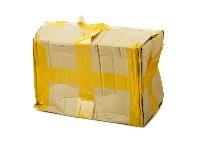undamaged: (30, 16, 171, 129)
